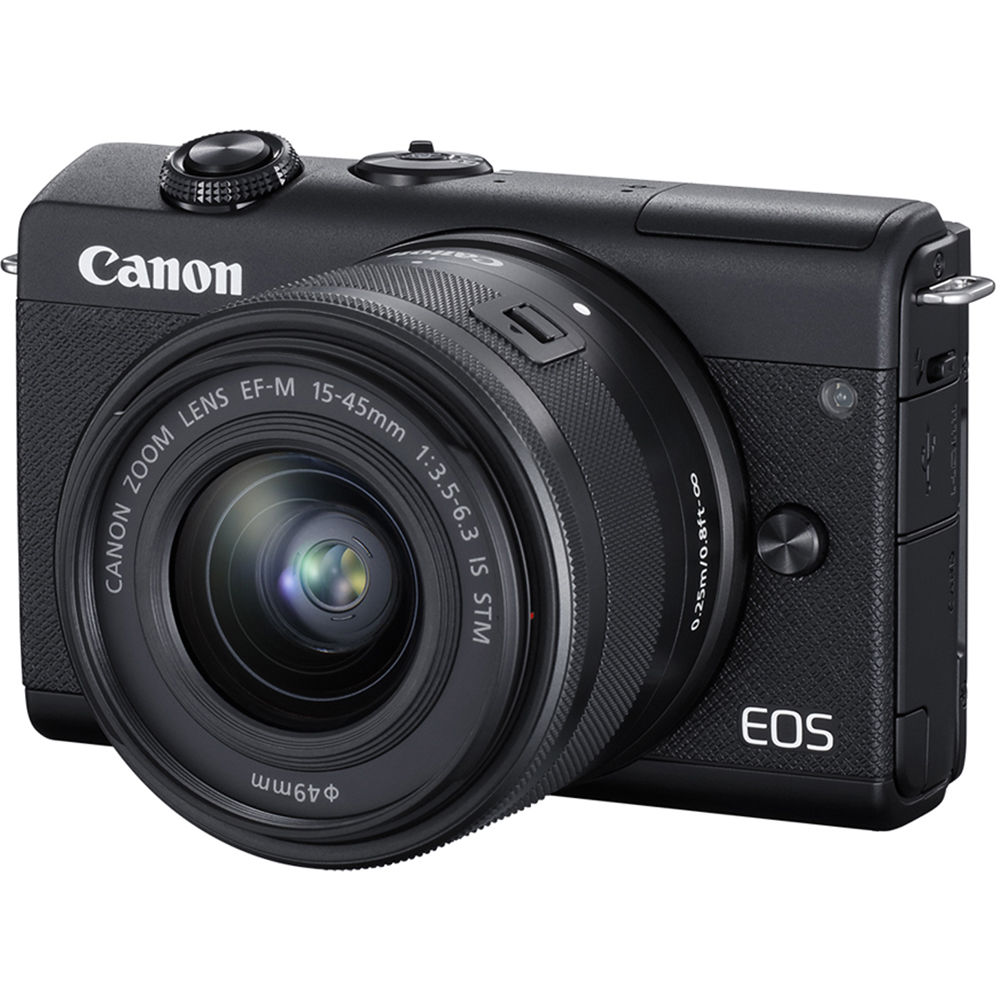camera: (16, 131, 961, 837)
